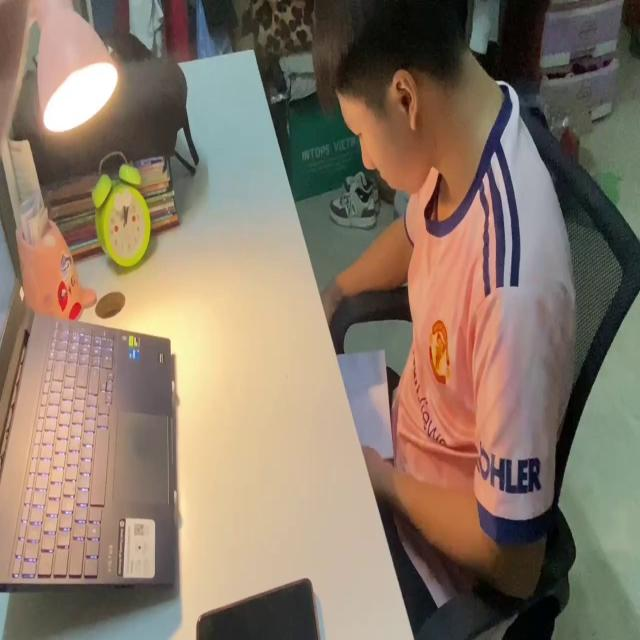book: (334, 349, 394, 466)
laptop: (0, 212, 180, 596)
phone: (197, 572, 319, 640)
student: (313, 8, 576, 625)
